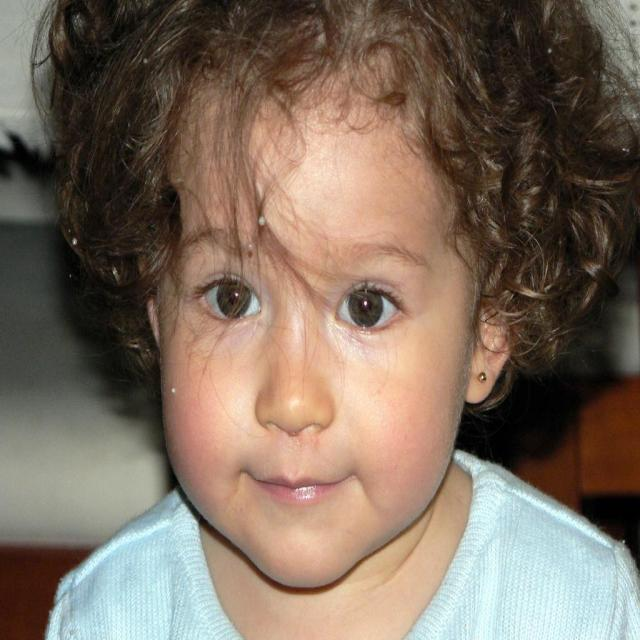no-glass: (185, 280, 410, 343)
